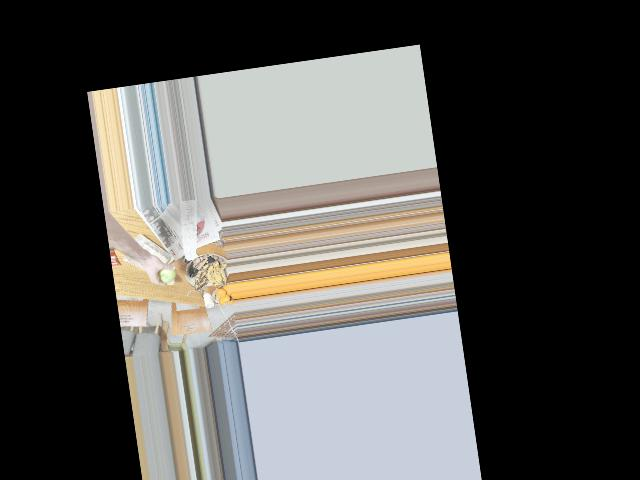apple: (154, 264, 177, 285)
